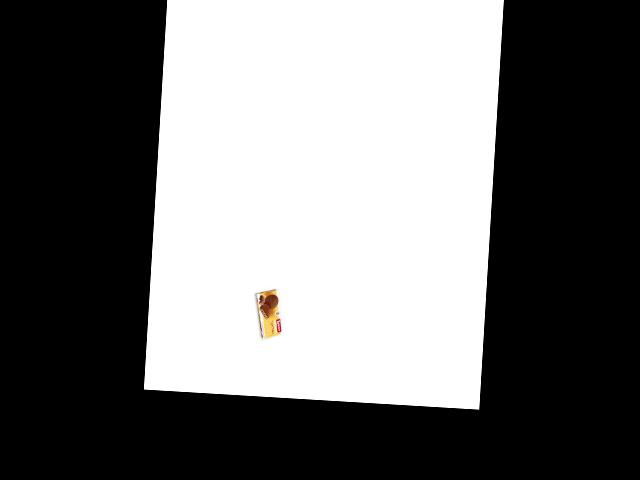chocolate: (257, 285, 285, 348)
